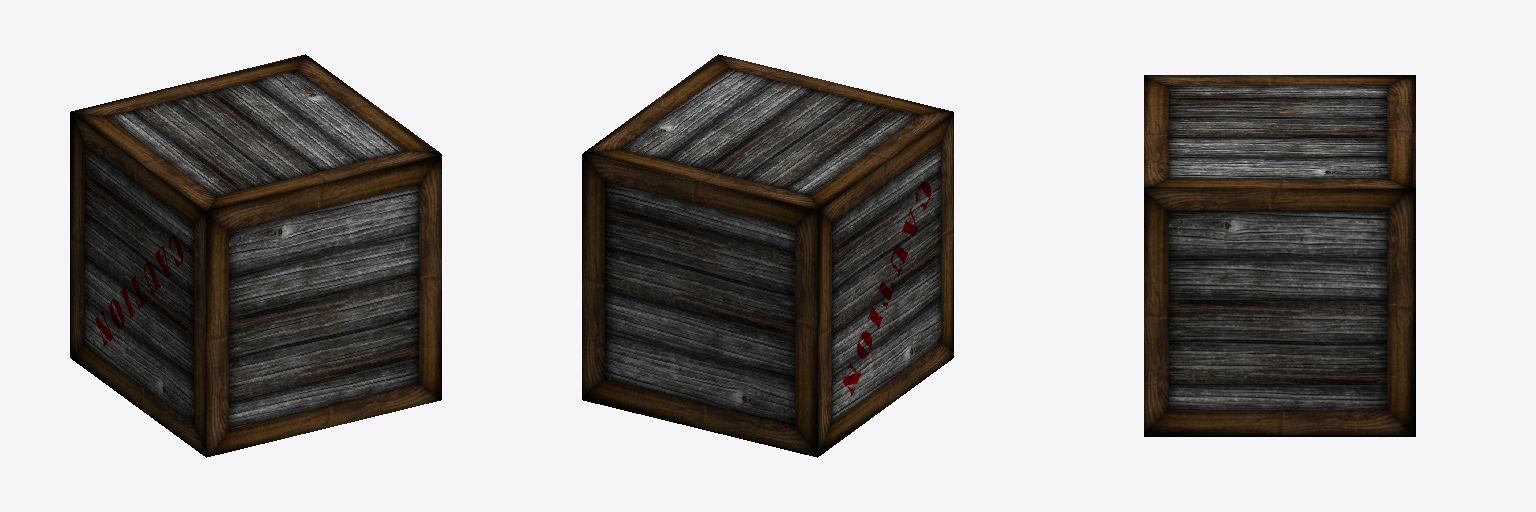
The picture shows the model from 3 angles: view 1: azimuth 30°, elevation 25°; view 2: azimuth 150°, elevation 25°; view 3: azimuth 270°, elevation 25°; orthographic projection.
Parts seen in each view (by area): view 1: Cube; view 2: Cube; view 3: Cube.
Part boxes in pixels (left/top/right/bottom): Cube: left=70, top=54, right=441, bottom=457; Cube: left=582, top=54, right=953, bottom=457; Cube: left=1144, top=75, right=1415, bottom=436.
Bounding box in the file's own units: 2 × 2 × 2.
1 materials, 1 textured.